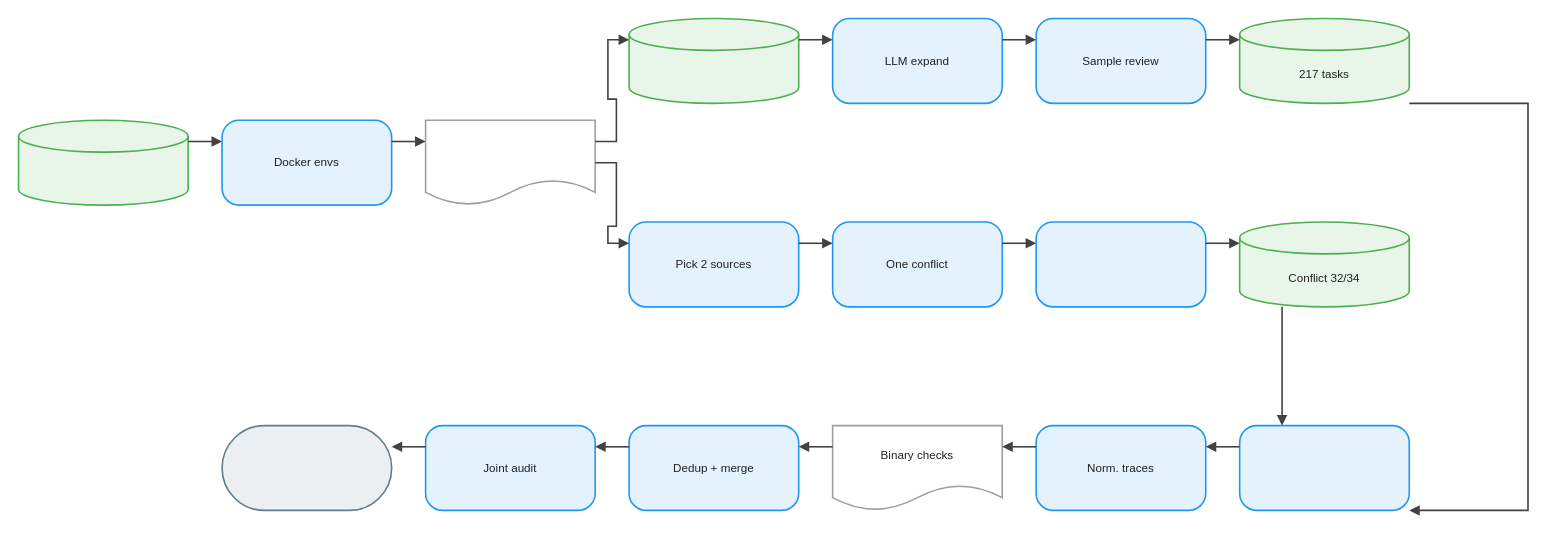
Some shapes in this 1556 by 538 pixel diagram are drawn without their labels. Each missing label, with the centre of its shape:
72 seeds: the point at 713,60
Context fixed: the point at 1120,264
GPT-5.1 × 16: the point at 1324,467
Source rules: the point at 102,162
Task + checks: the point at 306,467
Task spec: the point at 510,162
